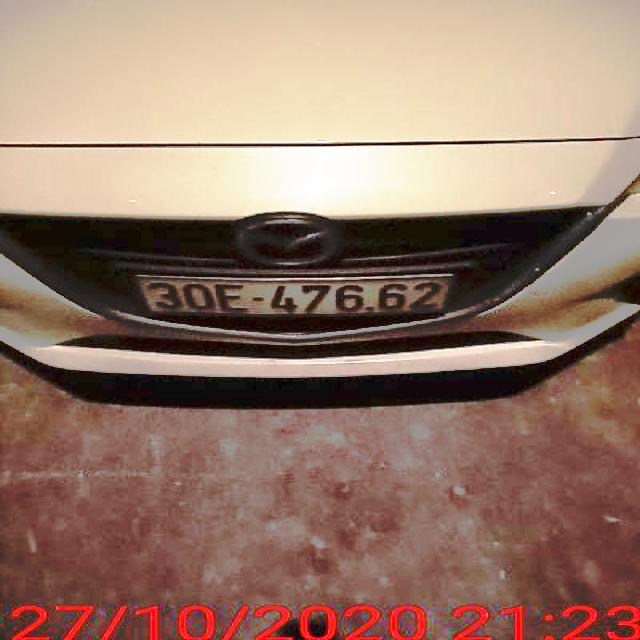license_plate: (136, 274, 448, 317)
